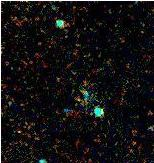star: (5, 108, 35, 138)
